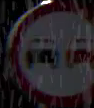No overtake: (6, 0, 93, 101)
